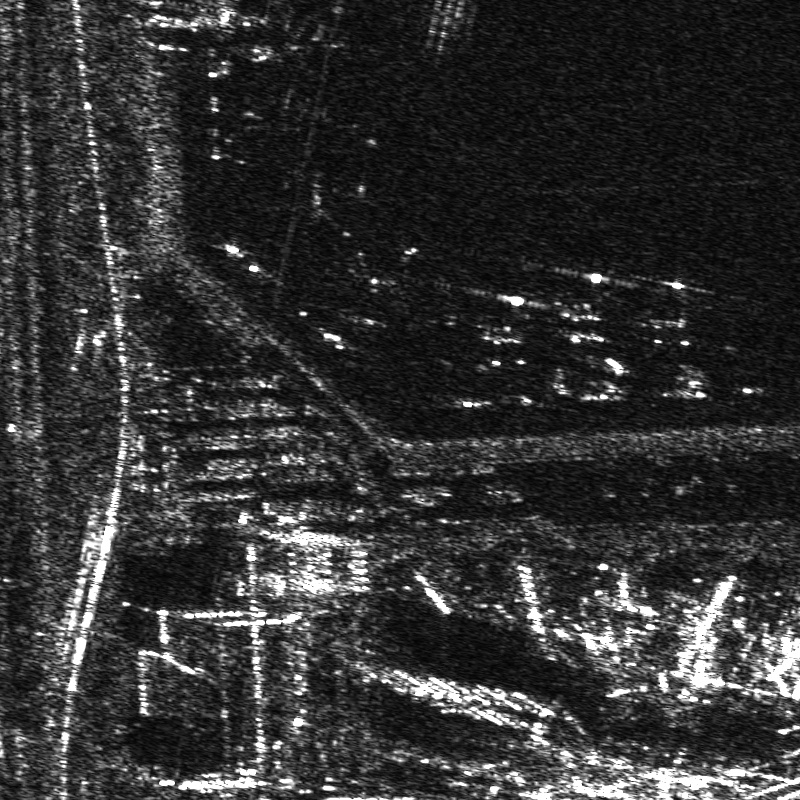A220: (537, 264, 613, 354)
Boeing737: (450, 283, 532, 357)
other: (630, 275, 701, 352)
